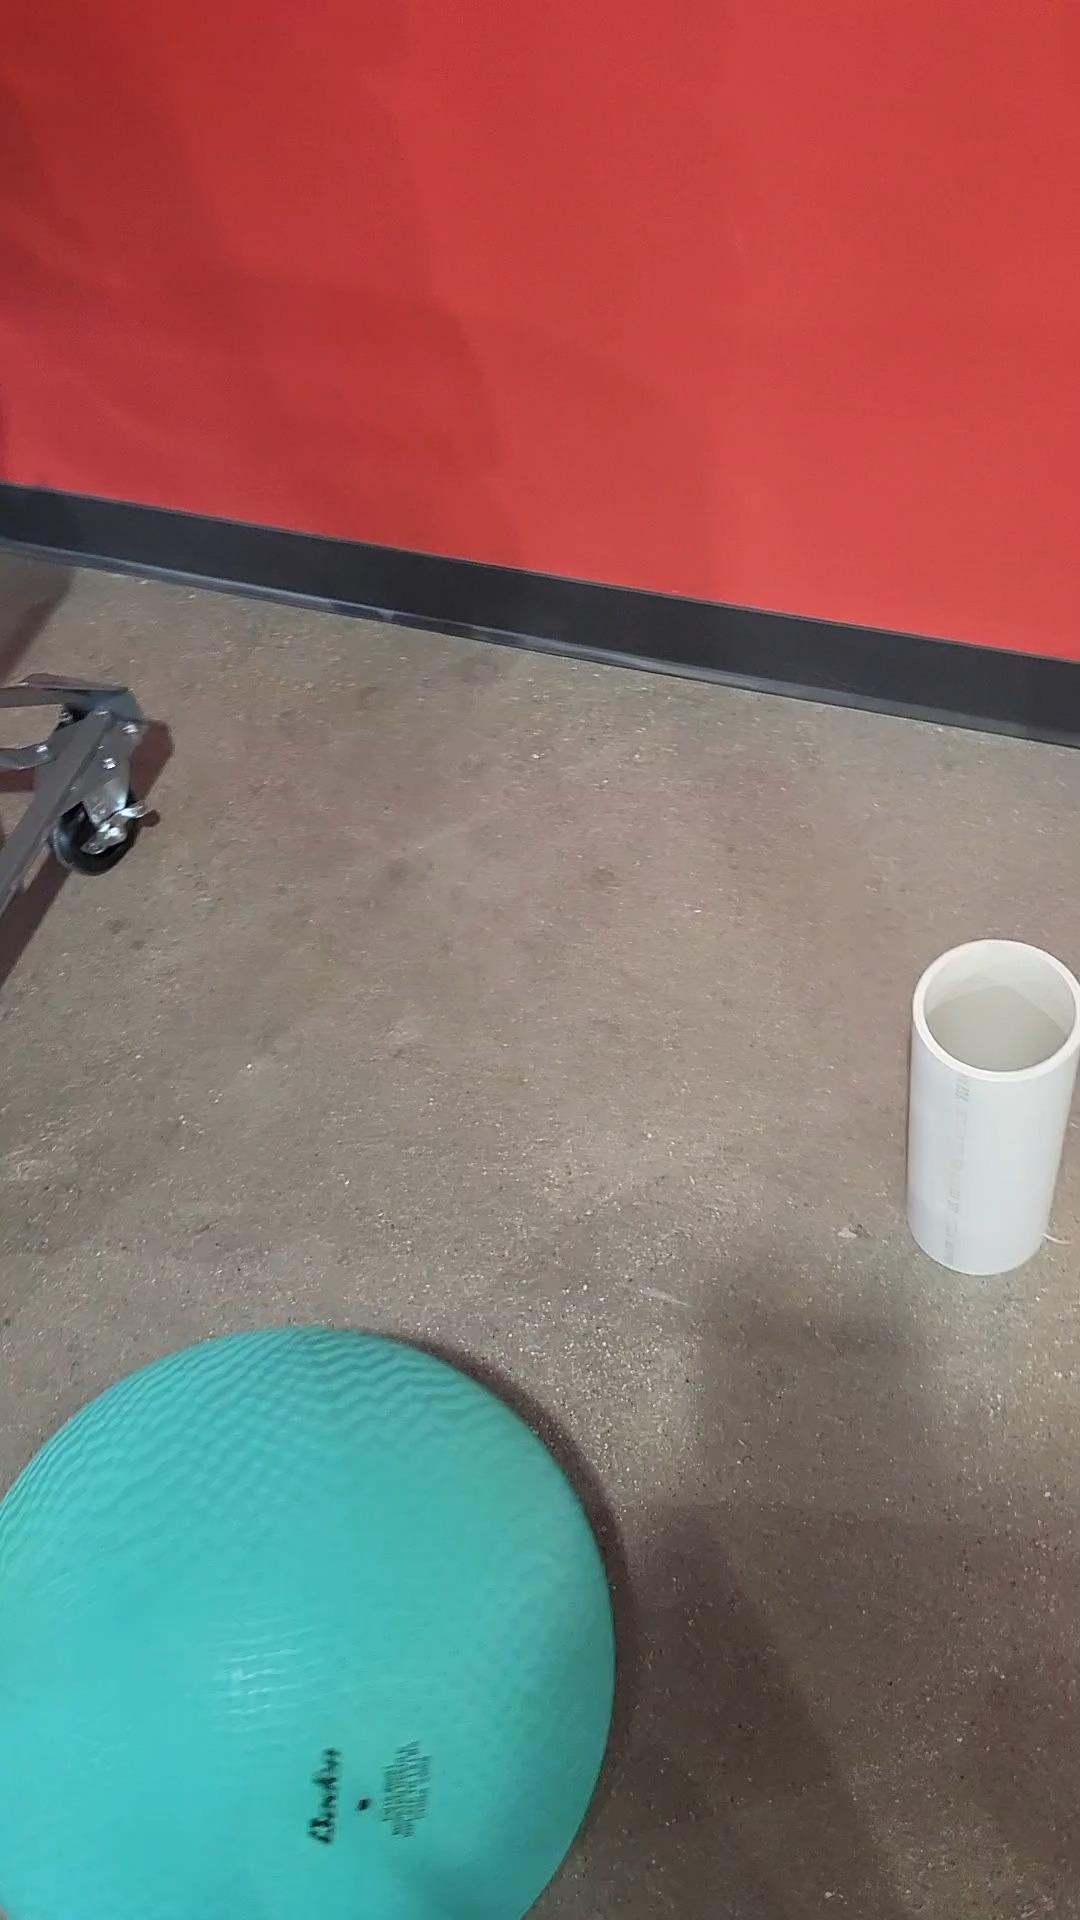algae: (0, 1324, 617, 1920)
coral: (902, 936, 1079, 1279)
